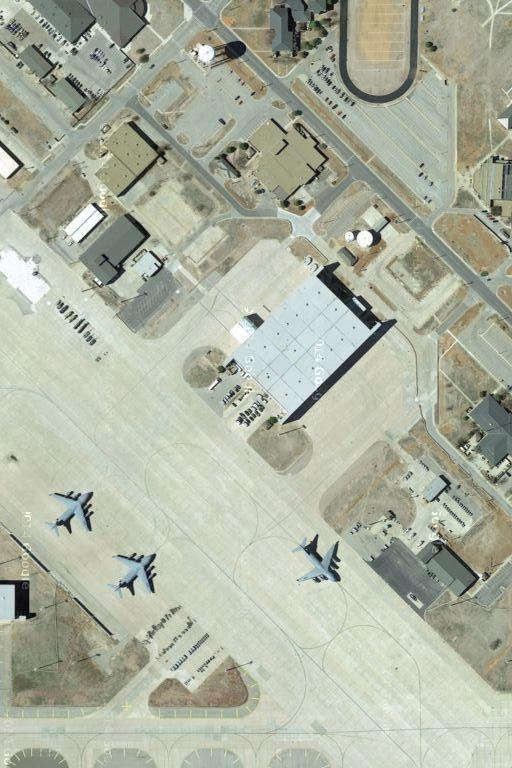C-17: (291, 535, 344, 590), (44, 483, 97, 538), (107, 546, 159, 600)
